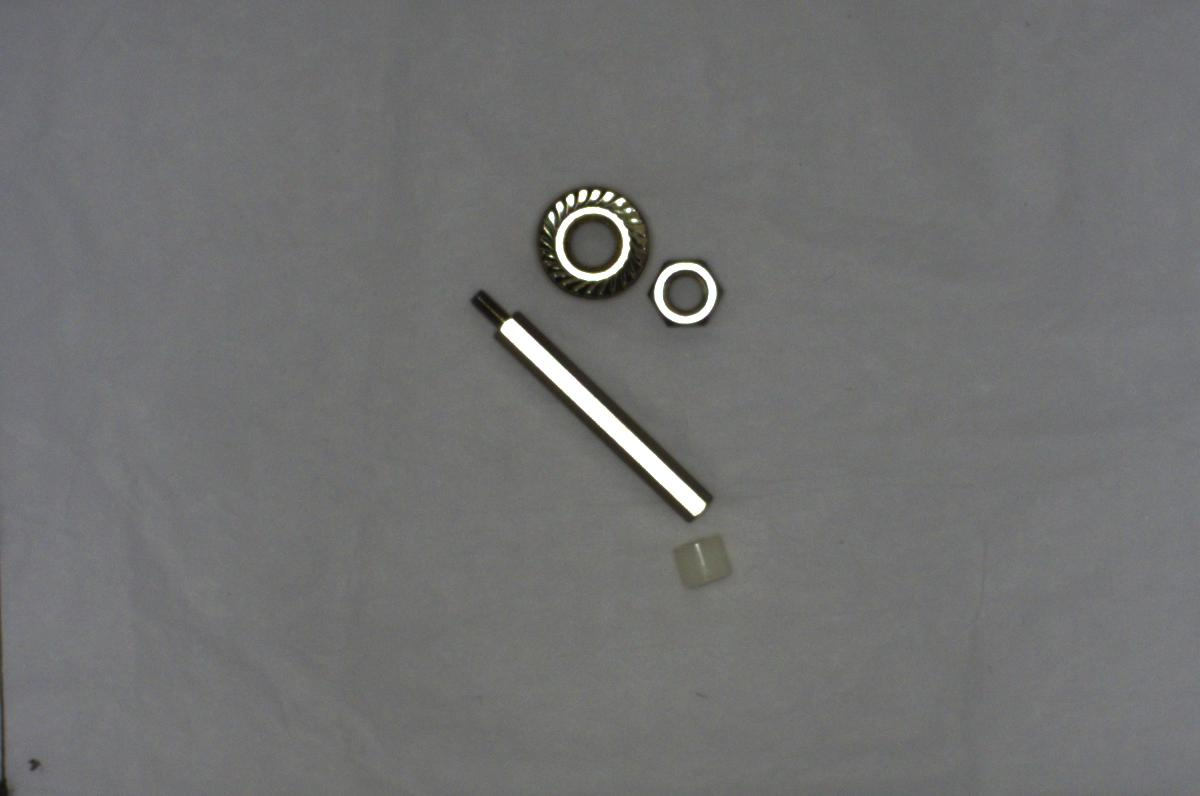Flange nut: (524, 179, 654, 307)
Hexagon nut: (645, 253, 719, 326)
Hexagonal steel column: (466, 285, 714, 523)
Plastic cushion pillar: (659, 527, 744, 595)
